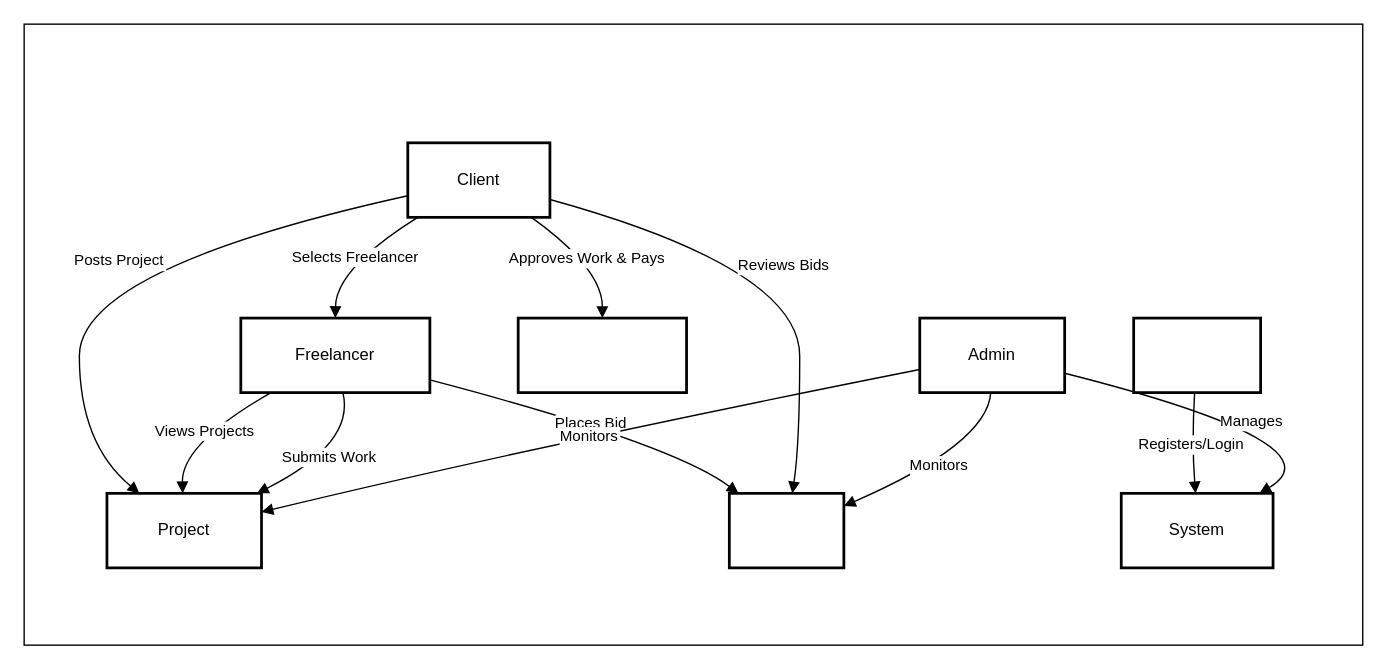
Some shapes in this 1387 by 669 pixel diagram are drawn without their labels. Each missing label, with the centre of its shape:
"Bid" belongs at [786,530].
"Payment" belongs at [601,354].
"User" belongs at [1196,354].
